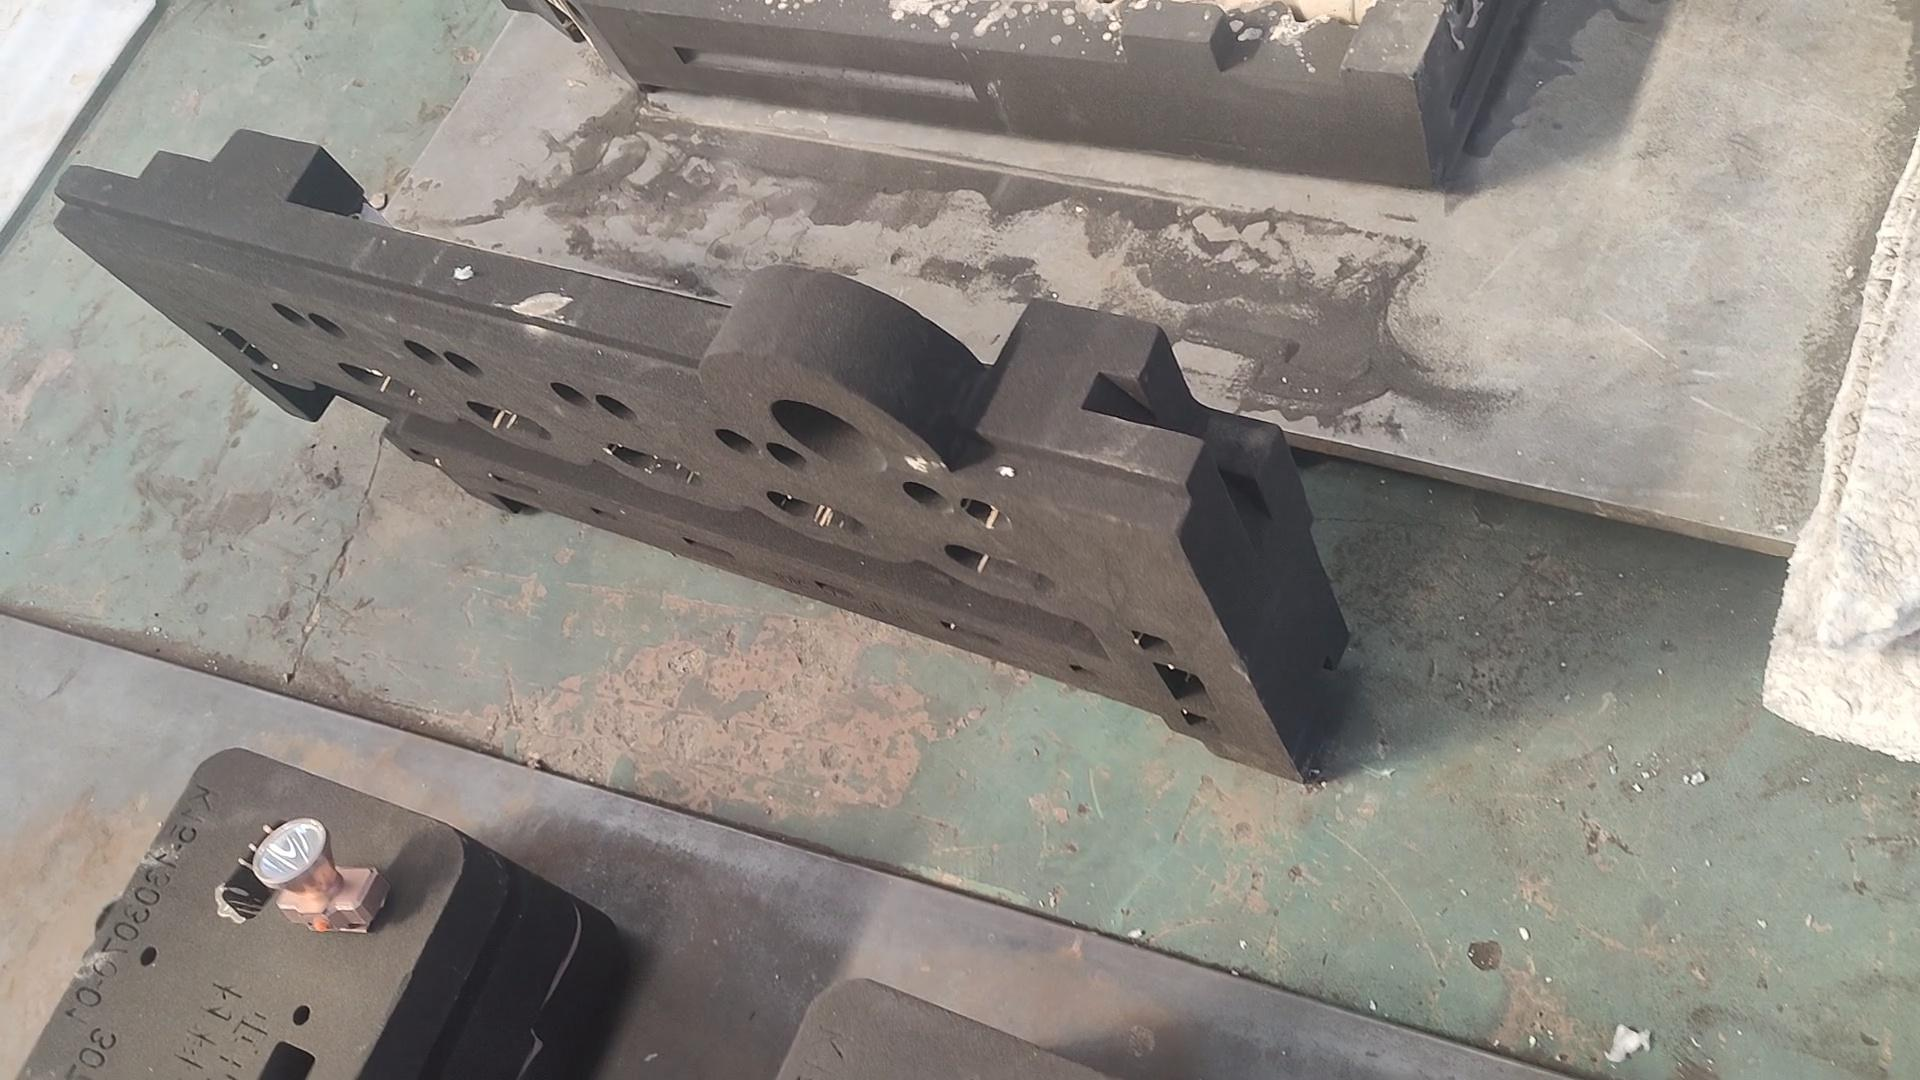pouring hole: (770, 398, 887, 473)
